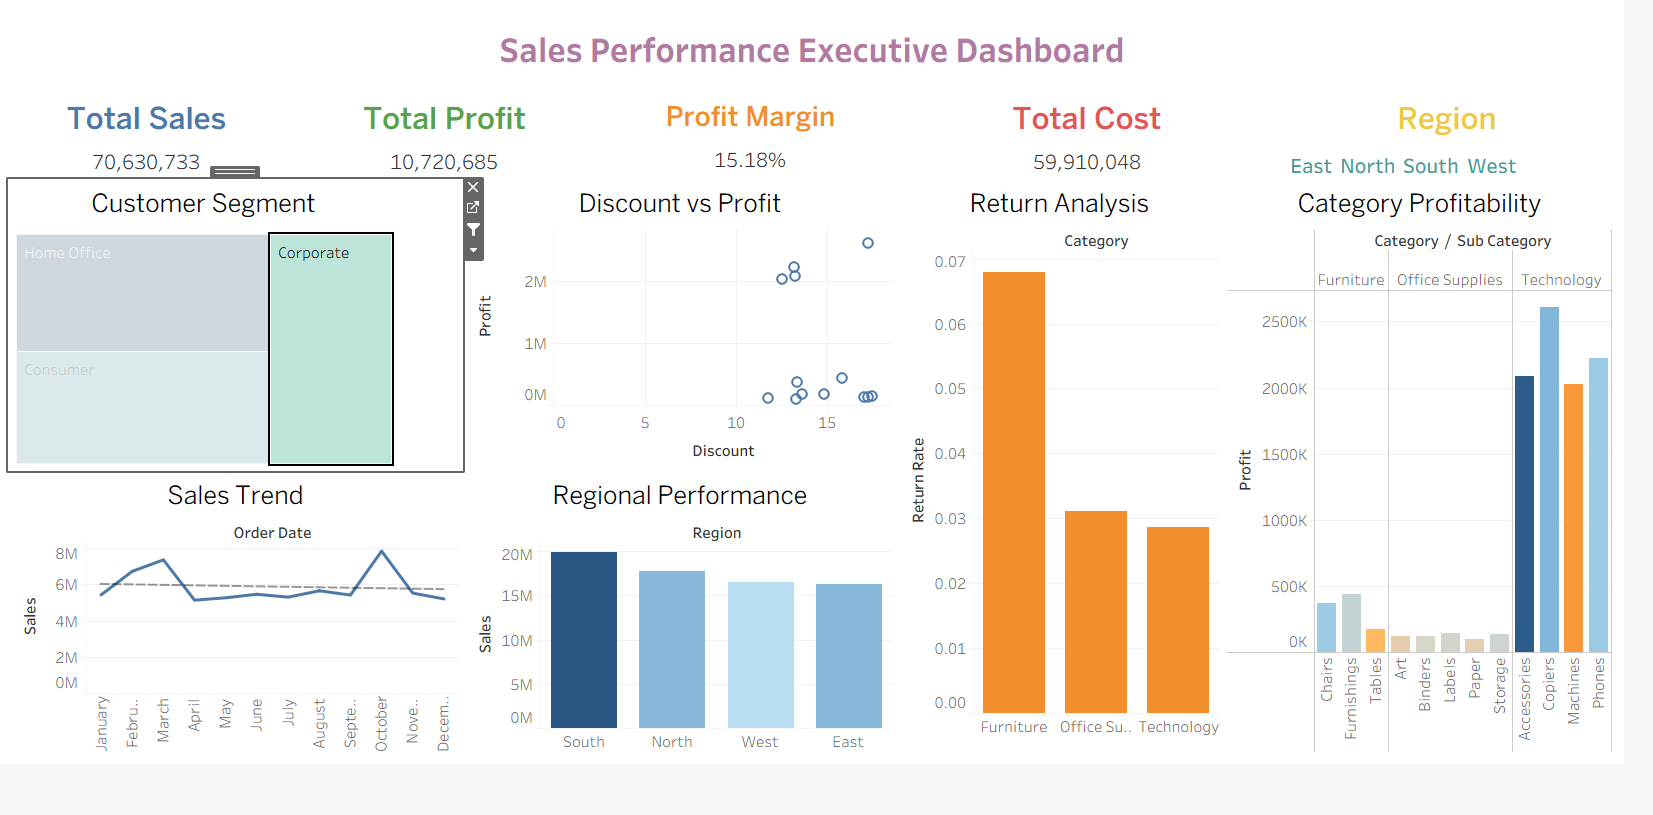

This screenshot's page, from the dashboard's own definition file:
{"tool":"tableau","page":{"name":"Dashboard 1","canvas":[1624,768],"ordinal":0},"visuals":[{"type":"title","box":[8,8,1608,88]},{"type":"worksheet","title":"KPI1","mark":"Automatic","box":[8,96,277,85.8]},{"type":"worksheet","title":"KPI2","mark":"Automatic","box":[285,96,318.6,85.8]},{"type":"worksheet","title":"KPI4","mark":"Automatic","box":[603.6,96,292.8,85.8]},{"type":"worksheet","title":"KPI3","mark":"Automatic","box":[896.3,96,381.7,85.9]},{"type":"worksheet","title":"KPI5","mark":"Automatic","box":[1278,96,338,85.9]},{"type":"worksheet","title":"4","mark":"Automatic","box":[8,181.8,454.6,292.6]},{"type":"worksheet","title":"6","mark":"Automatic","rows":["profit"],"cols":["discount"],"box":[462.6,181.8,433.7,292.6]},{"type":"worksheet","title":"7","mark":"Automatic","rows":["Calculation_0166043461615622"],"cols":["category"],"box":[896.3,181.9,326.6,578.1]},{"type":"worksheet","title":"3","mark":"Automatic","rows":["profit"],"cols":["category","sub_category"],"box":[1223,181.9,393,578.1]},{"type":"worksheet","title":"1","mark":"Automatic","rows":["sales"],"cols":["order_date"],"box":[8,474.5,454.6,285.5]},{"type":"worksheet","title":"2","mark":"Automatic","rows":["sales"],"cols":["region"],"box":[462.6,474.5,433.7,285.5]}]}

Visuals, with their boxes on the page's 1624x768 design canvas (x1, y1, x2, y2). These are canvas units, not pixel positions in the 1653x815 screenshot, which may show the page scaled, cropped or inside an application window:
title: x1=8 y1=8 x2=1616 y2=96
"KPI1" worksheet: x1=8 y1=96 x2=285 y2=182
"KPI2" worksheet: x1=285 y1=96 x2=604 y2=182
"KPI4" worksheet: x1=604 y1=96 x2=896 y2=182
"KPI3" worksheet: x1=896 y1=96 x2=1278 y2=182
"KPI5" worksheet: x1=1278 y1=96 x2=1616 y2=182
"4" worksheet: x1=8 y1=182 x2=463 y2=474
"6" worksheet: x1=463 y1=182 x2=896 y2=474
"7" worksheet: x1=896 y1=182 x2=1223 y2=760
"3" worksheet: x1=1223 y1=182 x2=1616 y2=760
"1" worksheet: x1=8 y1=474 x2=463 y2=760
"2" worksheet: x1=463 y1=474 x2=896 y2=760
